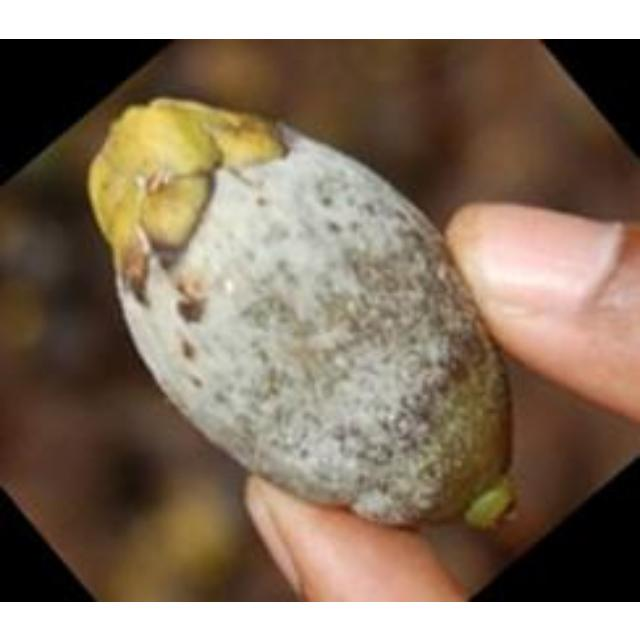damaged: (89, 96, 511, 523)
